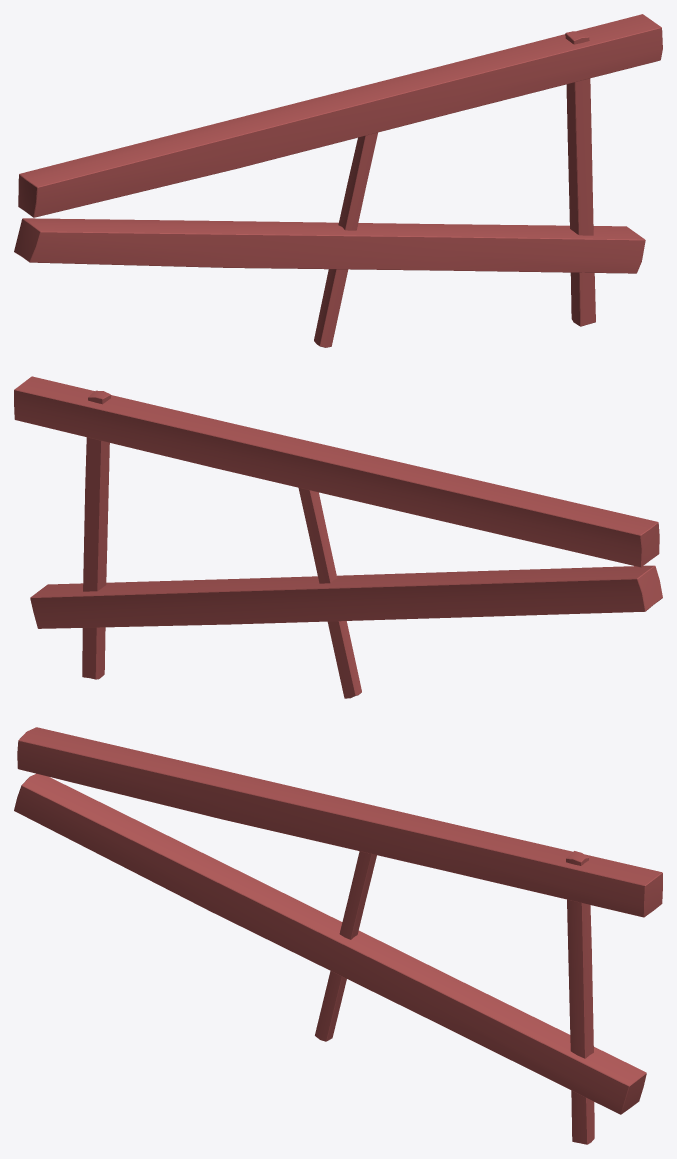
File: Beam_Structure_14B_Lod0.fbx
3 views of the same model, one above another, from view 1: azimuth 30°, elevation 25°; view 2: azimuth 150°, elevation 25°; view 3: azimuth 330°, elevation 25° (orthographic). The views are drawn at different scales.
Visible parts, largest first — view 1: Beam_Structure_14B_Lod0; view 2: Beam_Structure_14B_Lod0; view 3: Beam_Structure_14B_Lod0.
Boxes of the visible parts, <box> form: Beam_Structure_14B_Lod0: <box>14,14,662,347</box>; Beam_Structure_14B_Lod0: <box>14,376,662,698</box>; Beam_Structure_14B_Lod0: <box>14,727,662,1144</box>.
Size of the model in its own units: 324 by 141 by 23.16.
